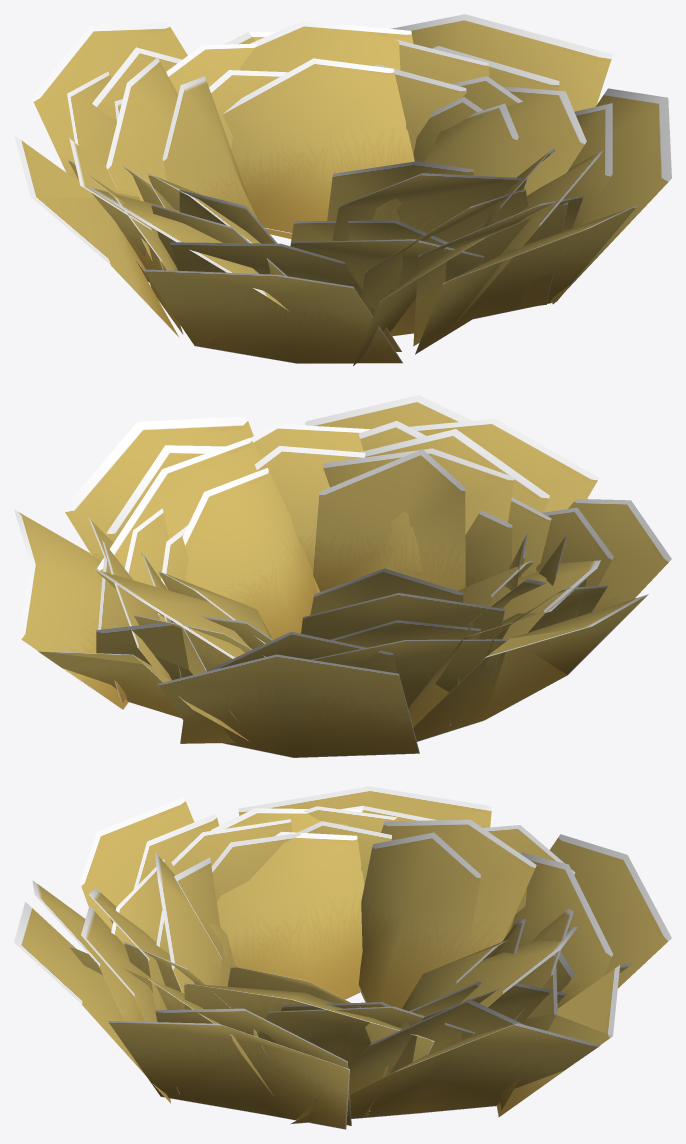
The model's file is Prop_GrassOnly.fbx.
3 views of the same model, one above another, from view 1: azimuth 30°, elevation 25°; view 2: azimuth 150°, elevation 25°; view 3: azimuth 270°, elevation 25° (orthographic). The views are drawn at different scales.
Parts seen in each view (by area): view 1: GrassOnlyAMesh001, GrassOnlyBMesh001; view 2: GrassOnlyAMesh001, GrassOnlyBMesh001; view 3: GrassOnlyAMesh001, GrassOnlyBMesh001.
Boxes of the visible parts, <box> form: GrassOnlyAMesh001: <box>14,14,671,365</box>; GrassOnlyBMesh001: <box>69,46,612,351</box>; GrassOnlyAMesh001: <box>14,395,671,757</box>; GrassOnlyBMesh001: <box>88,421,613,743</box>; GrassOnlyAMesh001: <box>14,786,671,1129</box>; GrassOnlyBMesh001: <box>81,805,612,1125</box>.
Bounding box in the file's own units: 49.14 × 14.26 × 49.76.
